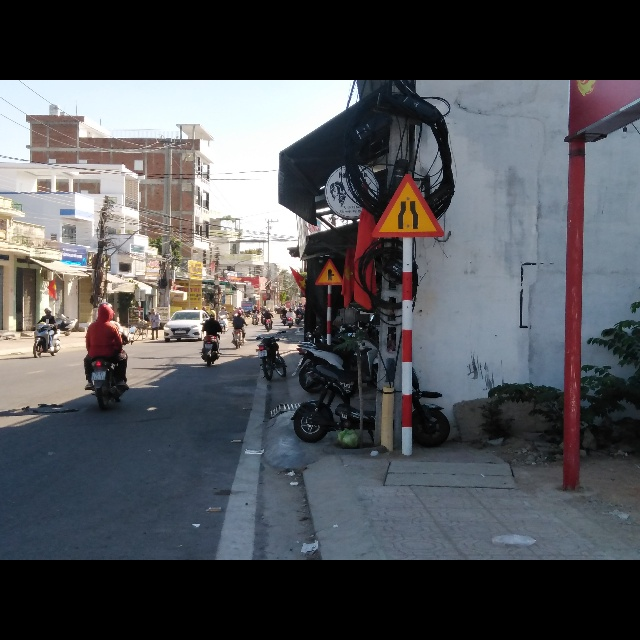Giao nhau với đường không ưu tiên: (314, 259, 346, 287)
Đường bị hẹp cả hai bên: (369, 173, 445, 240)
